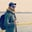face: (8, 1, 17, 12)
